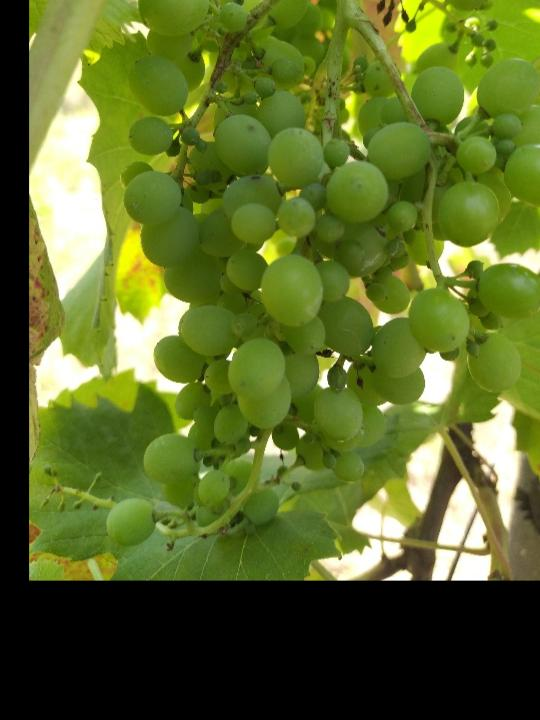grape: (100, 0, 540, 551)
